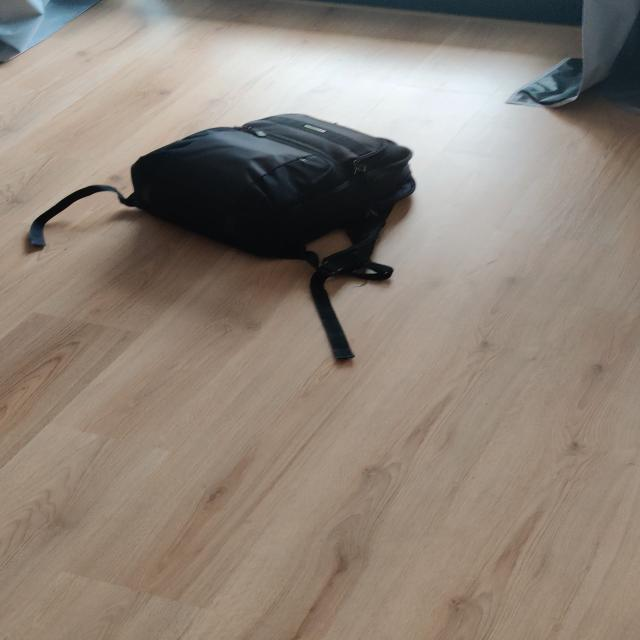backpack: (108, 108, 426, 264)
